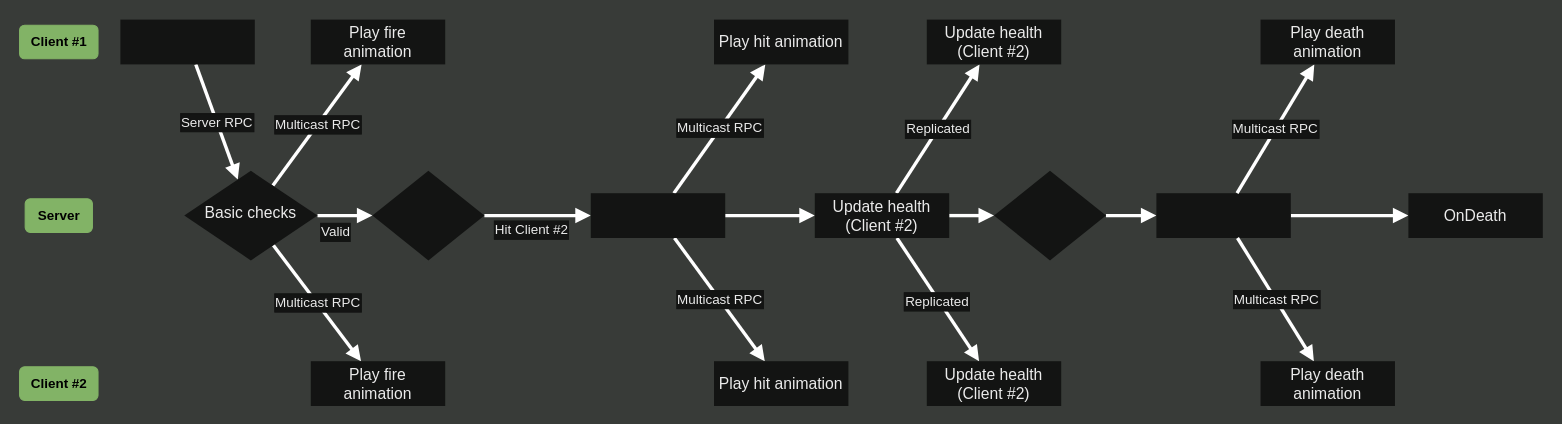
Some shapes in this 1562 by 424 pixel diagram are drawn without their labels. The box of each missing label's shape, as (x1, y1, x2, y2) in pixels:
Client #2 Death: (1156, 193, 1290, 237)
Damage (Client #2): (590, 193, 725, 237)
Fire: (120, 19, 254, 64)
Health < 0: (993, 170, 1105, 260)
Hitscan: (372, 170, 484, 260)
